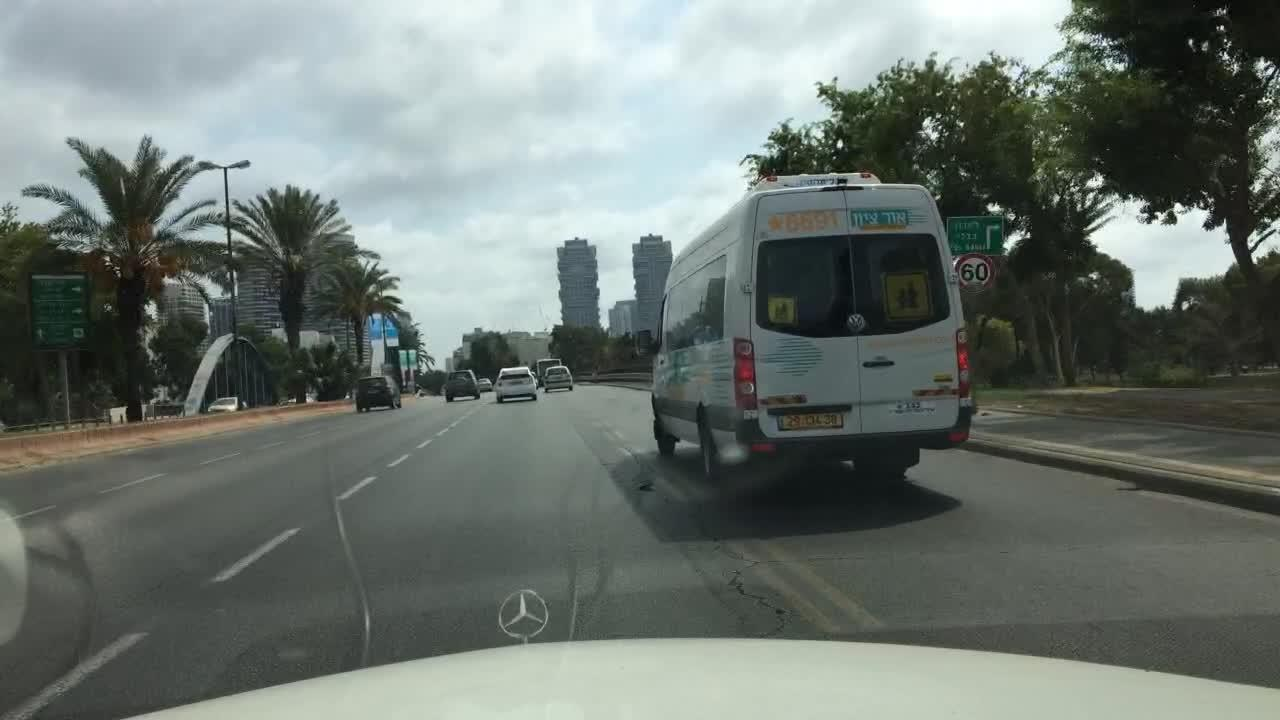Mercedes: (476, 556, 581, 654)
